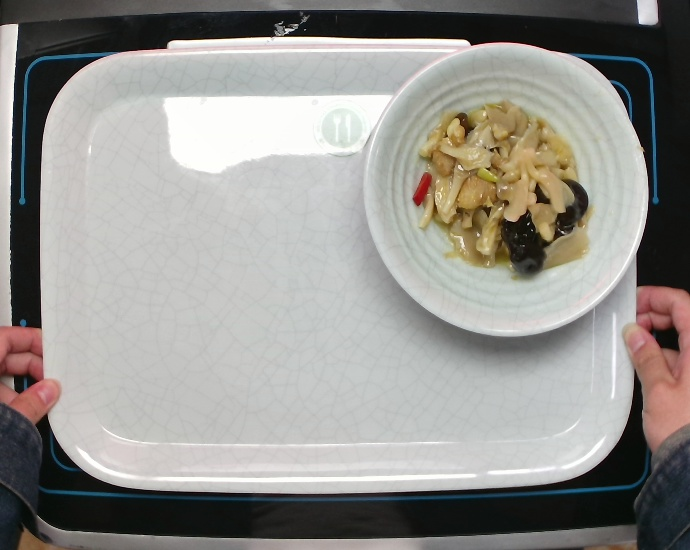JYsf-Xiao_Tang_Wan: (360, 39, 650, 339)
